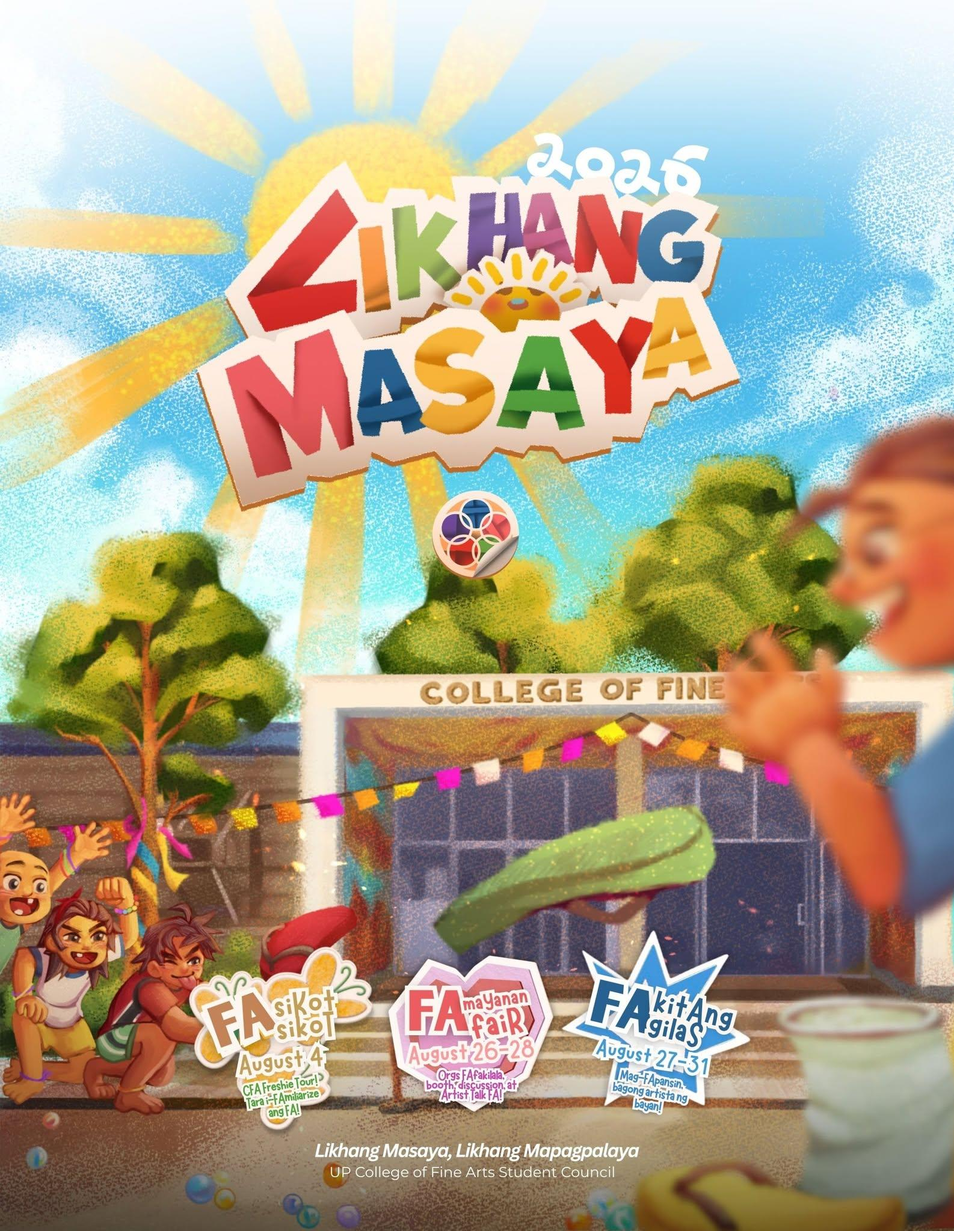embellishment: (187, 939, 375, 1129), (560, 930, 750, 1115), (190, 939, 372, 1129), (562, 932, 752, 1113), (389, 956, 553, 1111), (389, 956, 552, 1111), (446, 245, 589, 332)
logo: (432, 491, 520, 580)
text: (190, 152, 763, 532), (520, 133, 708, 198), (419, 676, 726, 704), (314, 1144, 639, 1161), (340, 1164, 614, 1181)
